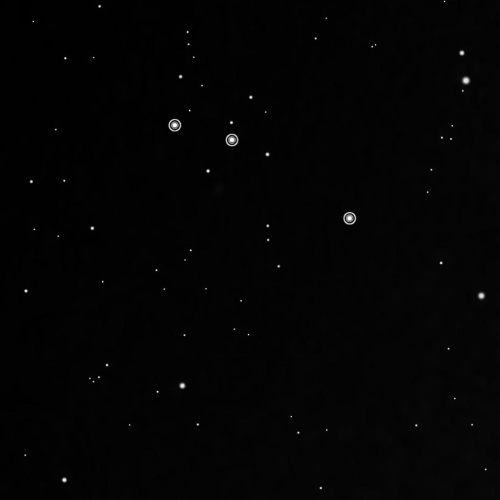vulpecula: (166, 113, 360, 231)
